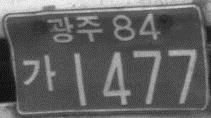1: (71, 51, 88, 107)
4: (101, 51, 131, 105), (137, 12, 159, 41)
7: (166, 48, 197, 107), (131, 49, 162, 105)
8: (111, 14, 136, 42)
가: (22, 55, 56, 93)
광주_O: (45, 14, 103, 44)
